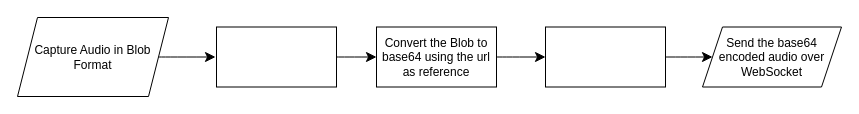
The diagram is 859 pixels wide and 114 high, and some of its shapes have lost their labels. Here are the shapes that lost their labels. From the top down, the box of each, then its label:
(216, 26, 336, 87): Create a Blob url that stores the Blob in browser cache
(544, 26, 666, 87): Delete blob from browser cache (memory management)
